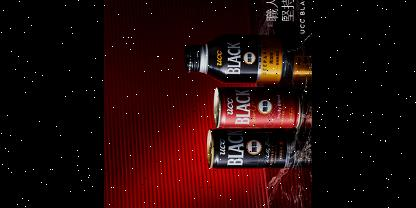Can: (214, 87, 300, 127), (206, 128, 290, 168)
Plastic Bottle: (186, 32, 288, 84)
